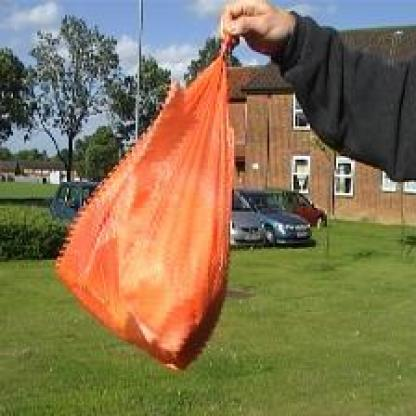other: (64, 47, 237, 367)
